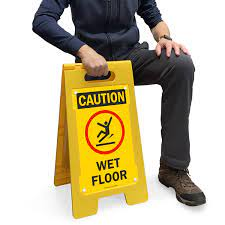wet caution sign: (49, 60, 155, 205)
